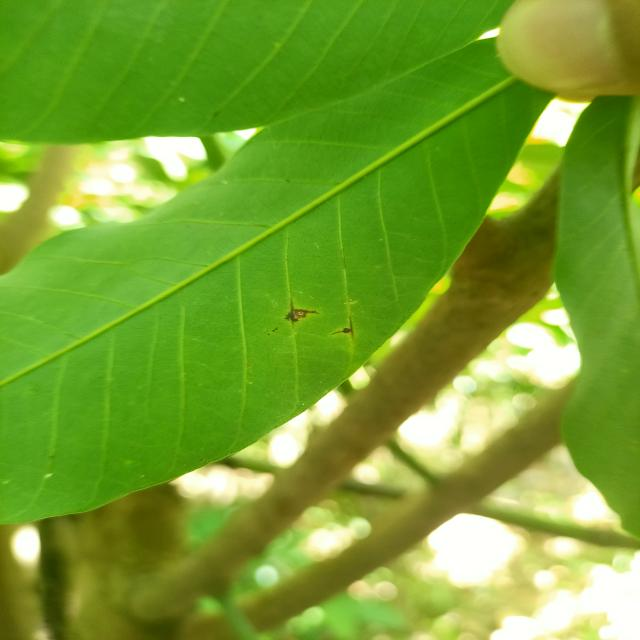Corynespora: (286, 299, 320, 325), (331, 316, 353, 338)
